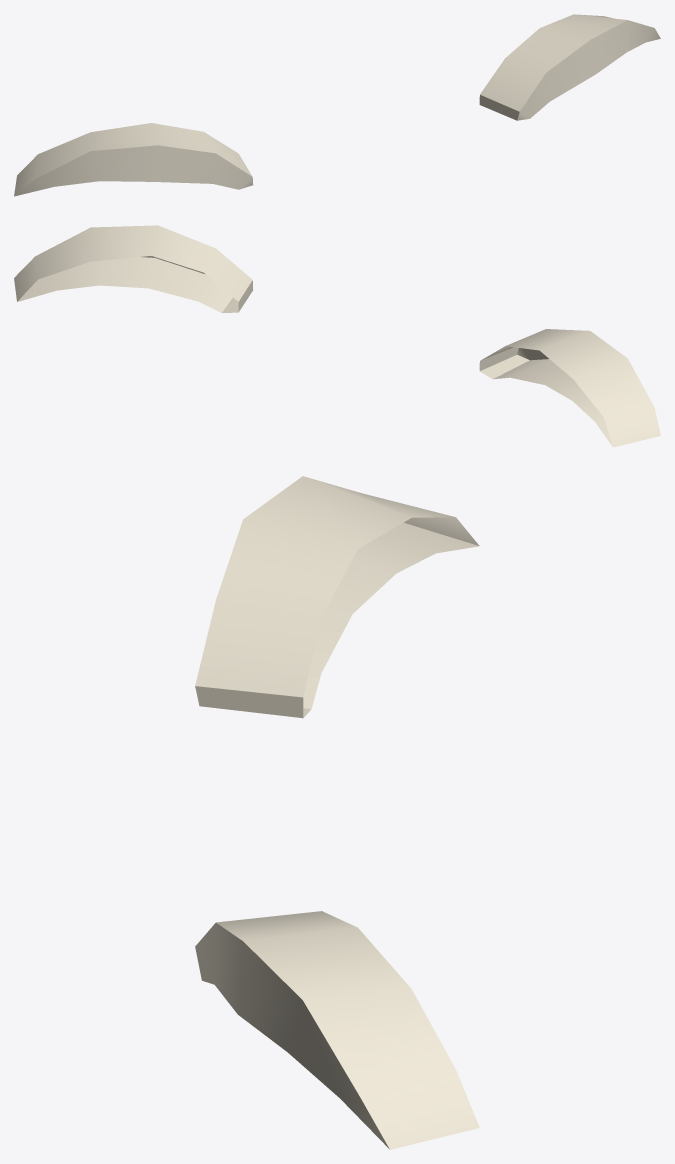
File: Eyebrow_1.fbx
3 renders of one model, top to bottom at view 1: azimuth 30°, elevation 25°; view 2: azimuth 150°, elevation 25°; view 3: azimuth 270°, elevation 25°, orthographic. The views are drawn at different scales.
Parts seen in each view (by area): view 1: Eyebrow_1; view 2: Eyebrow_1; view 3: Eyebrow_1.
Boxes of the visible parts, x1=… form: Eyebrow_1: x1=14, y1=14, x2=660, y2=196; Eyebrow_1: x1=14, y1=225, x2=660, y2=447; Eyebrow_1: x1=195, y1=476, x2=479, y2=1149.
Size of the model in its own units: 33.06 by 2.71 by 6.3.
